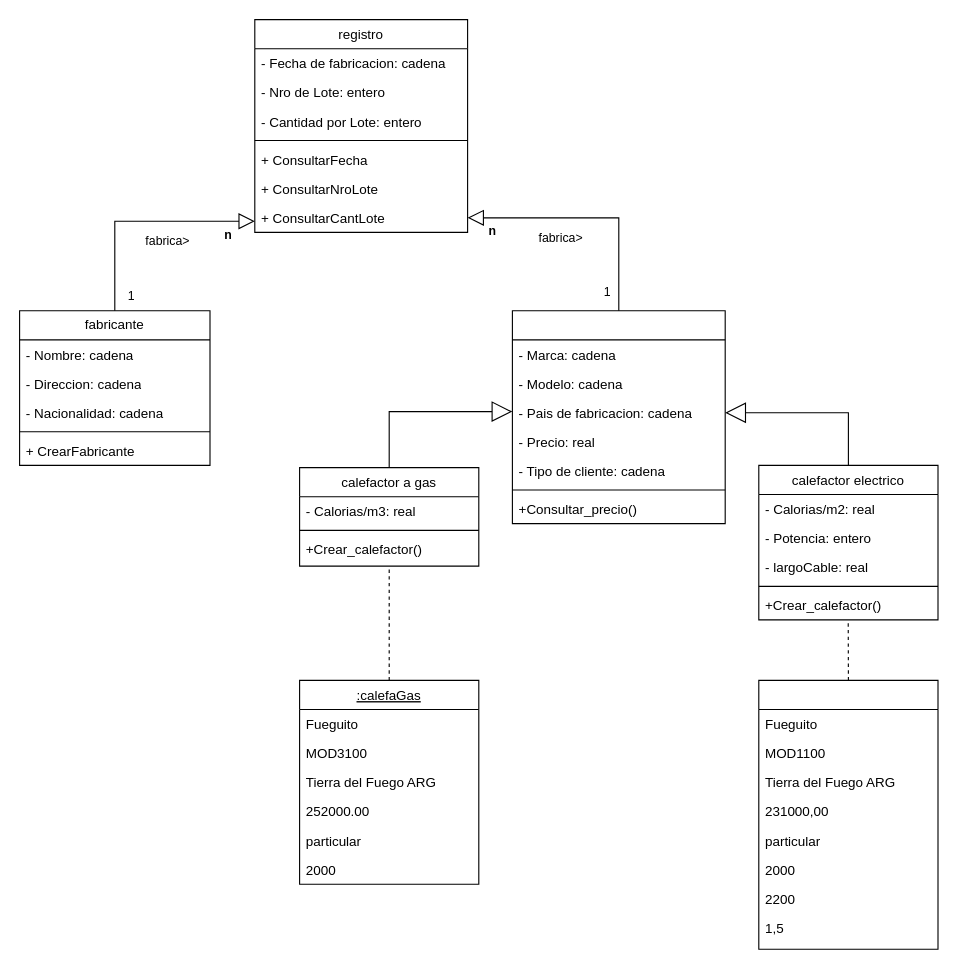
The diagram is 958 pixels wide and 969 high, and some of its shapes have lost their labels. Each missing label, with the box of its shape:
:calefaElectrico: (758, 679, 938, 949)
calefactor: (511, 310, 725, 524)
